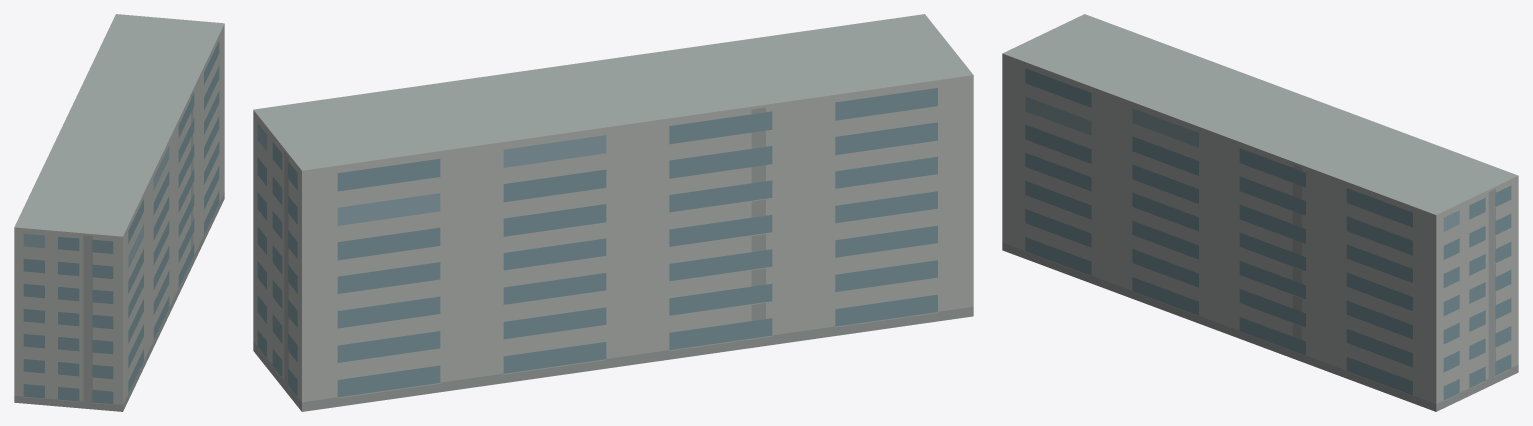
The model's file is residential-3e4df382-a680-49a7-8ddf-55106a1e13ed.glb.
3 renders of one model, left to right at view 1: azimuth 30°, elevation 25°; view 2: azimuth 150°, elevation 25°; view 3: azimuth 270°, elevation 25°, orthographic. The views are drawn at different scales.
Visible parts, largest first — view 1: residential-3e4df382-a680-49a7-8ddf-55106a1e13ed.tmp; view 2: residential-3e4df382-a680-49a7-8ddf-55106a1e13ed.tmp; view 3: residential-3e4df382-a680-49a7-8ddf-55106a1e13ed.tmp.
Boxes of the visible parts, x1=… form: residential-3e4df382-a680-49a7-8ddf-55106a1e13ed.tmp: x1=14, y1=14, x2=224, y2=411; residential-3e4df382-a680-49a7-8ddf-55106a1e13ed.tmp: x1=253, y1=14, x2=973, y2=411; residential-3e4df382-a680-49a7-8ddf-55106a1e13ed.tmp: x1=1002, y1=14, x2=1518, y2=411.
Bounding box in the file's own units: 46.79 × 21.35 × 50.76.
